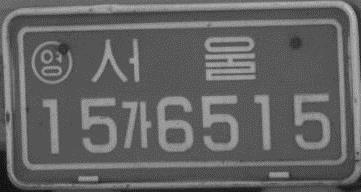1: (38, 95, 66, 156), (250, 92, 277, 152)
5: (199, 92, 241, 153), (292, 91, 332, 152), (78, 95, 119, 153)
6: (155, 93, 196, 155)
가: (118, 97, 152, 152)
서울_D: (89, 33, 258, 89)
영: (30, 38, 74, 85)
